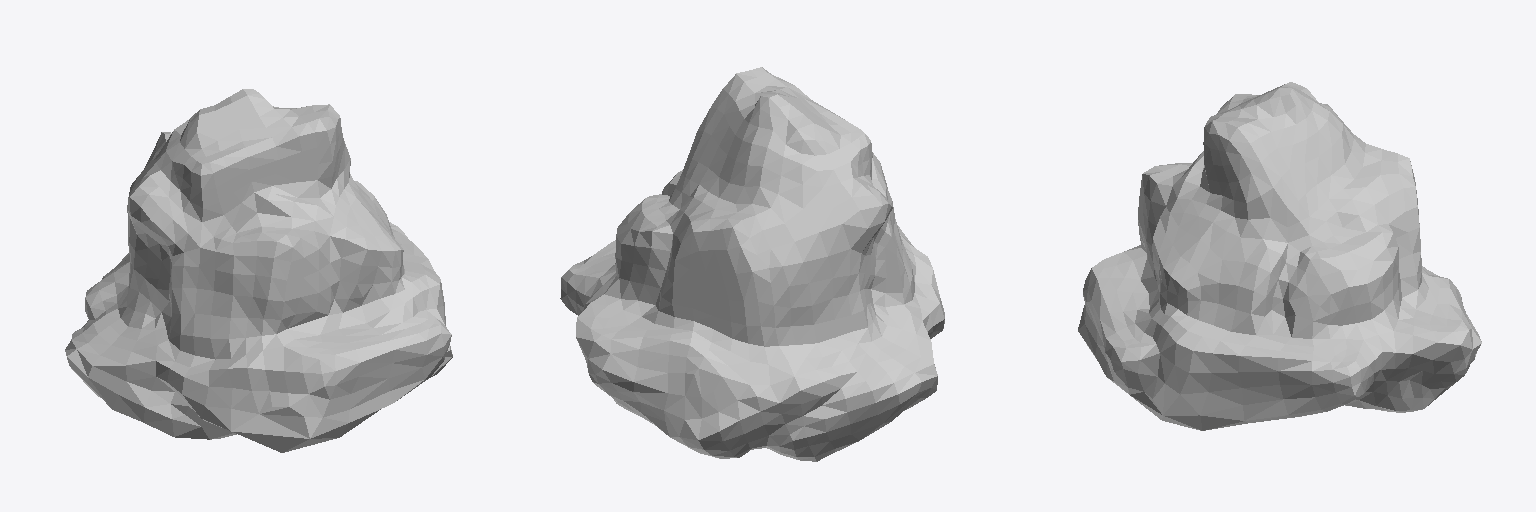
Rendered from rock4.obj.
3 renders of one model, left to right at view 1: azimuth 30°, elevation 25°; view 2: azimuth 150°, elevation 25°; view 3: azimuth 270°, elevation 25°, orthographic.
Parts seen in each view (by area): view 1: rock3; view 2: rock3; view 3: rock3.
Part boxes in pixels (bbox=[...]): rock3: bbox=[65, 89, 452, 452]; rock3: bbox=[560, 67, 944, 461]; rock3: bbox=[1078, 82, 1481, 430].
Size of the model in its own units: 1.04 by 0.9495 by 1.06.